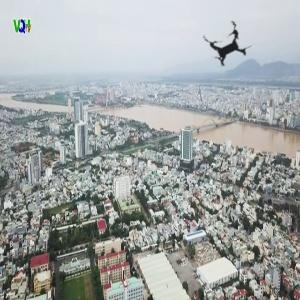drone: (188, 7, 268, 87)
